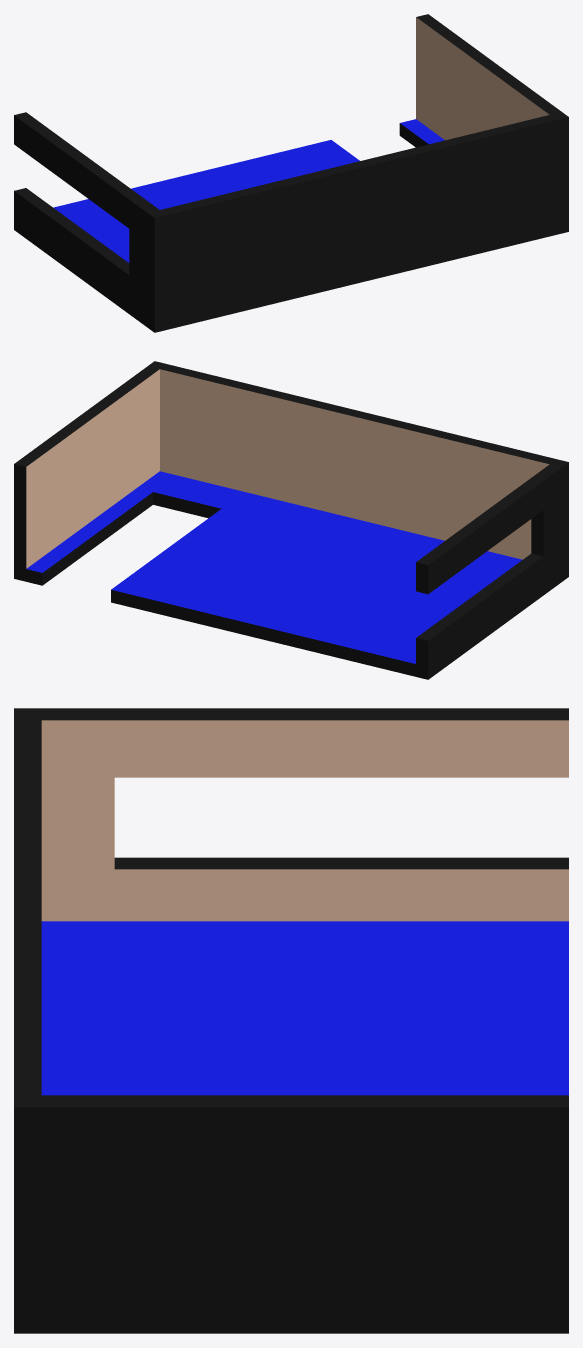
File: Room Model.FBX
The picture shows the model from 3 angles, top to bottom: view 1: azimuth 30°, elevation 25°; view 2: azimuth 150°, elevation 25°; view 3: azimuth 270°, elevation 25°; orthographic projection. The views are drawn at different scales.
Visible parts, largest first — view 1: Room; view 2: Room; view 3: Room.
Boxes of the visible parts, box(x1,y1,x2,y2) form: Room: box(14, 14, 568, 332); Room: box(14, 361, 568, 679); Room: box(14, 708, 568, 1333).
Size of the model in its own units: 170 by 45 by 100.
